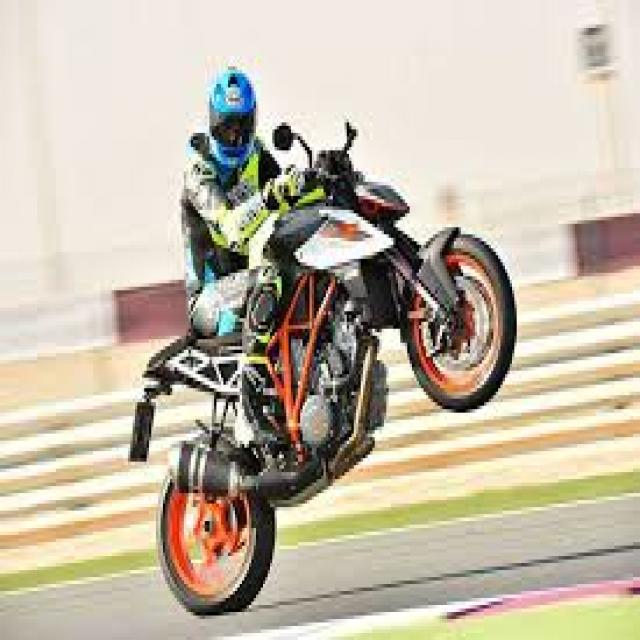Wheeling: (51, 192, 511, 633)
